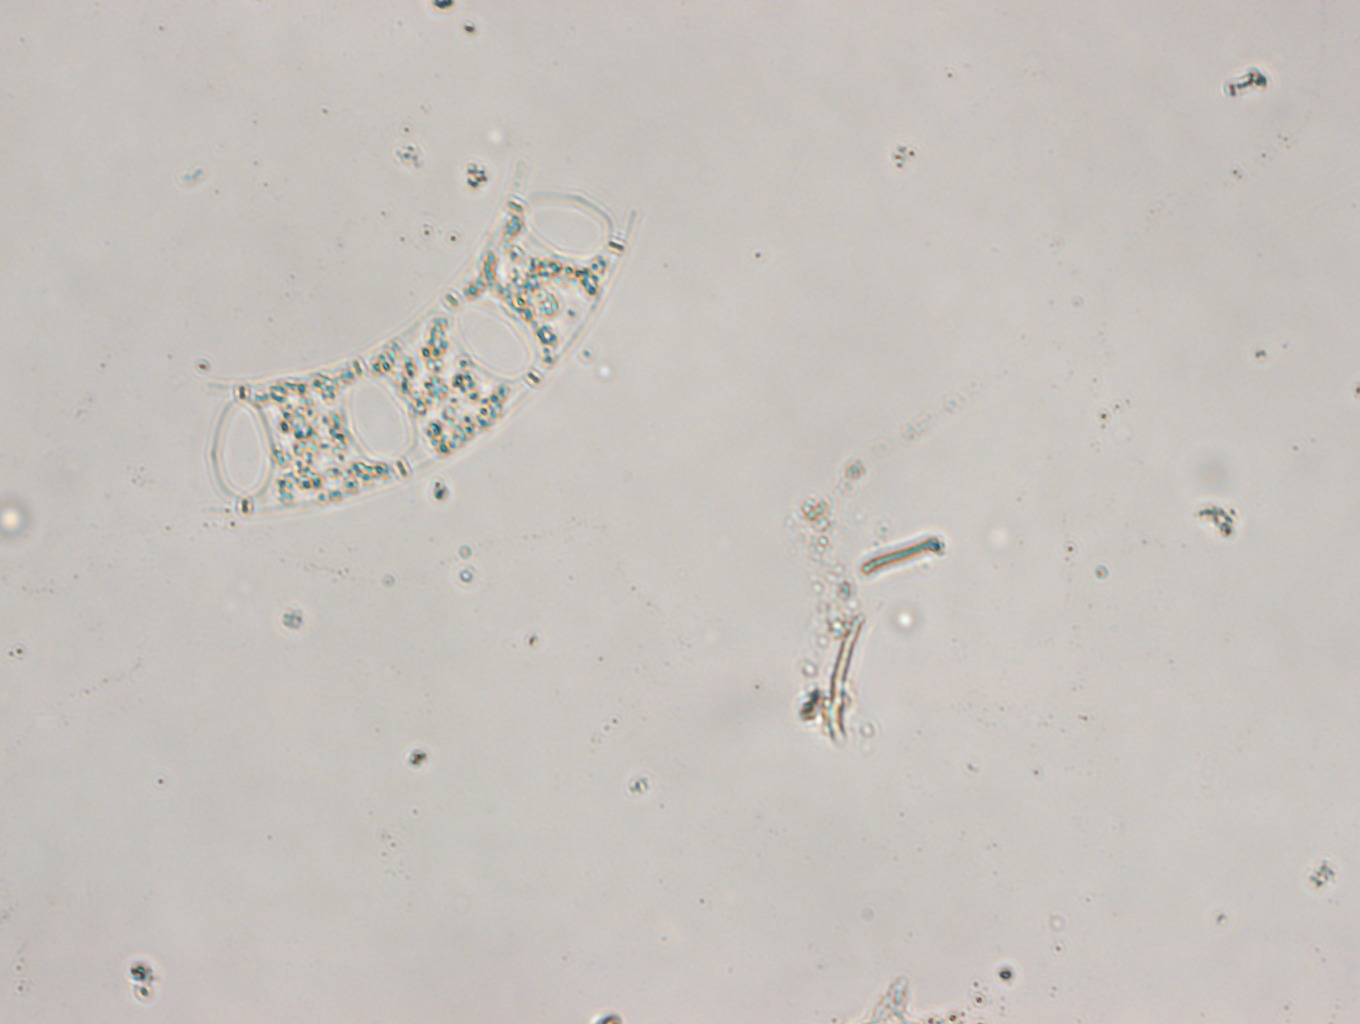eucampia: (187, 145, 640, 516)
